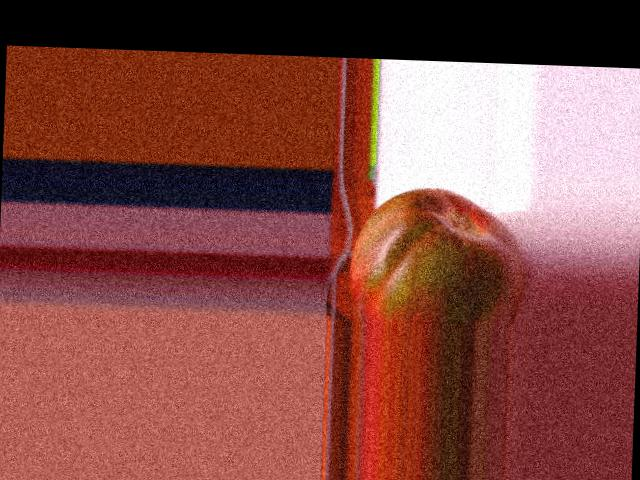tomato: (347, 185, 526, 327)
